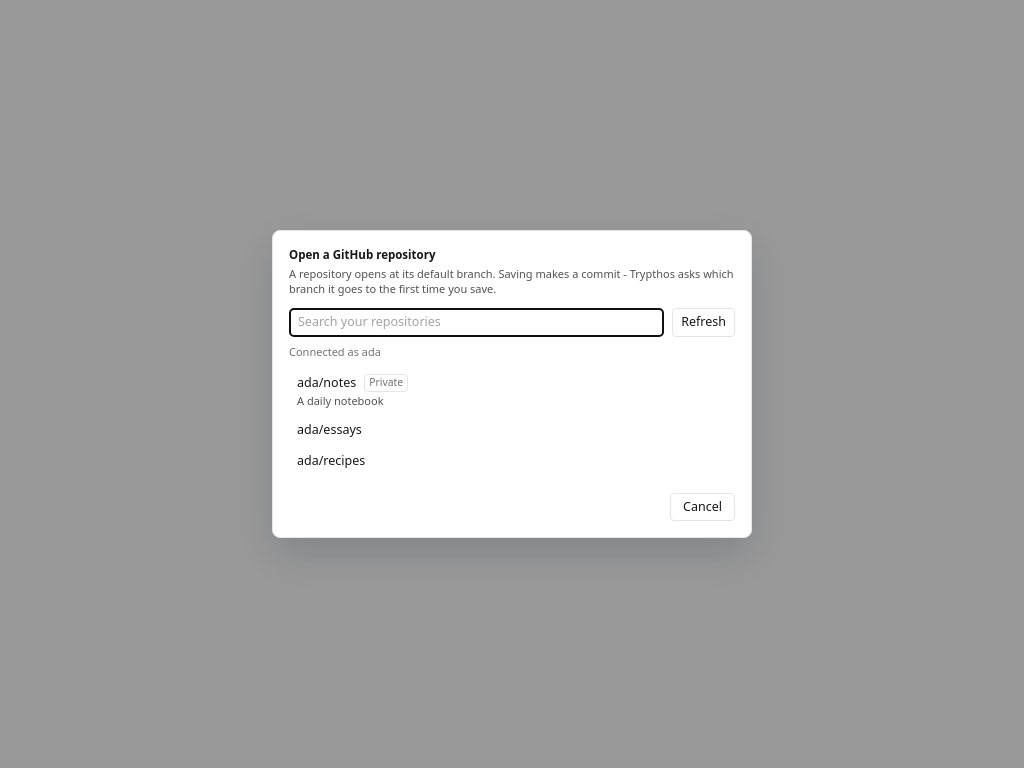
Scenario: OpenRepoDialog › narrows the list as a search is typed
The width and height of the screenshot is (1024, 768).
Check: the button "ada/notes Private A daily notebook" is shown, box [289, 368, 735, 415]
Type "ess" into the search field at x=477, y=323, box [289, 308, 664, 337]
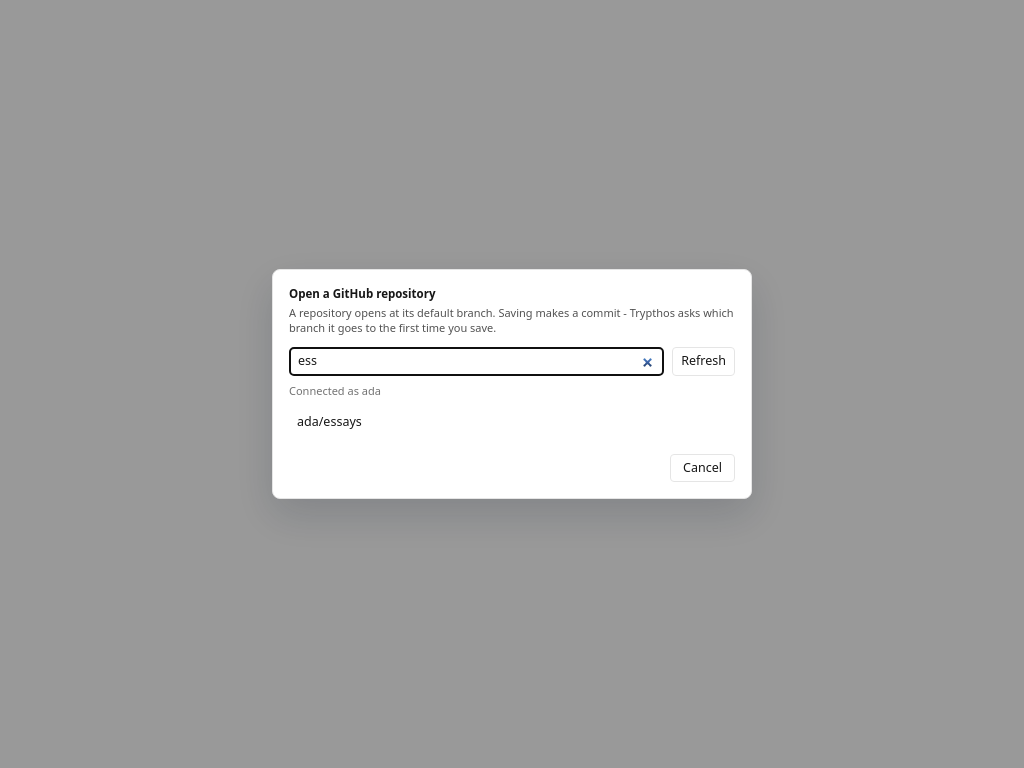
Check: the button "ada/essays" is shown, box [289, 407, 735, 438]
Check: the button "ada/notes" is gone
